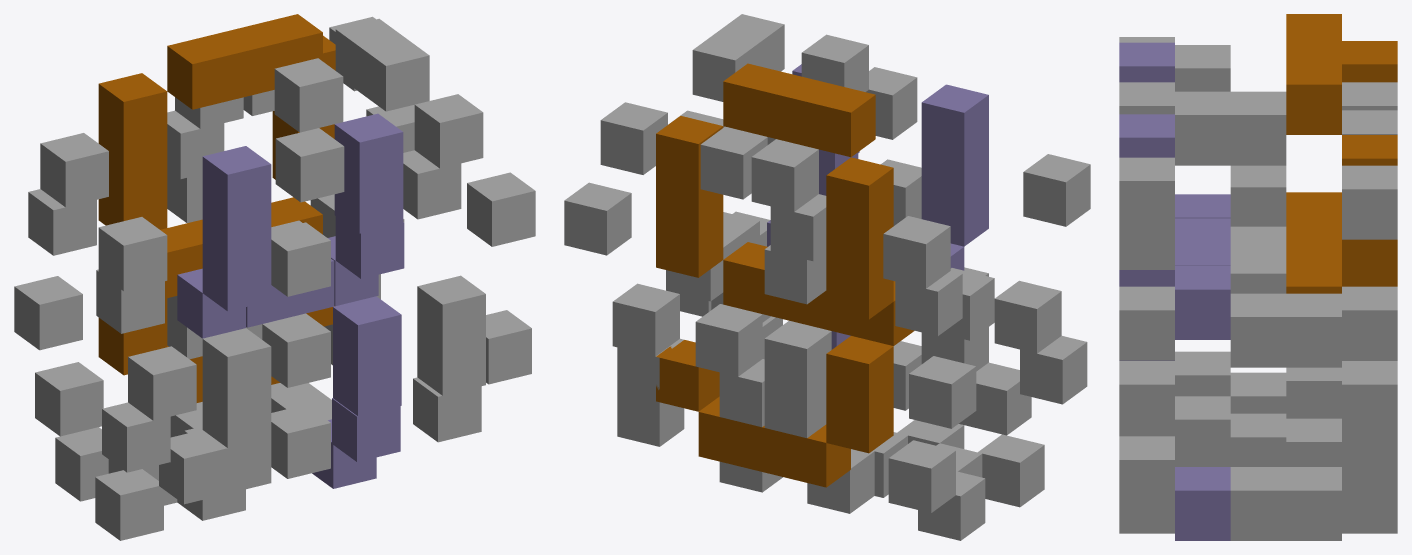
The model's file is game2.fbx.
3 views of the same model, side by side, from view 1: azimuth 30°, elevation 25°; view 2: azimuth 150°, elevation 25°; view 3: azimuth 270°, elevation 25° (orthographic). The views are drawn at different scales.
Visible parts, largest first — view 1: polySurface943; view 2: polySurface943; view 3: polySurface943.
Boxes of the visible parts, left/top/right/bottom form: polySurface943: left=14, top=14, right=535, bottom=540; polySurface943: left=564, top=14, right=1090, bottom=540; polySurface943: left=1119, top=14, right=1397, bottom=540.
Bounding box in the file's own units: 9.46 × 9 × 5.
